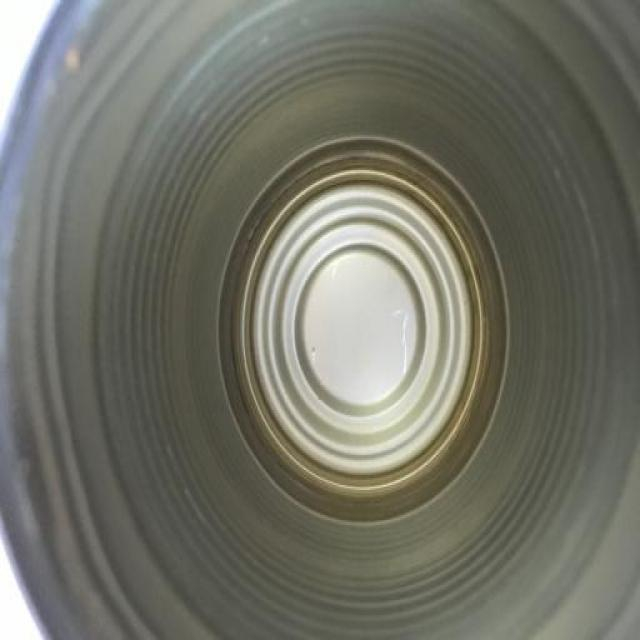metel: (1, 1, 640, 640)
